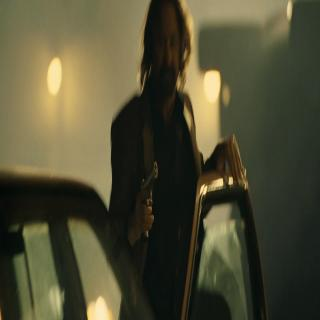gun: (140, 159, 158, 242)
